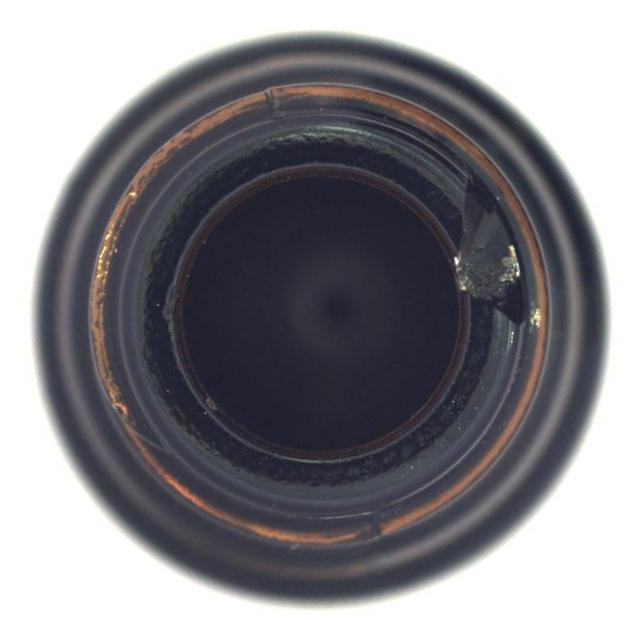bad-broken_small: (28, 29, 610, 609)
